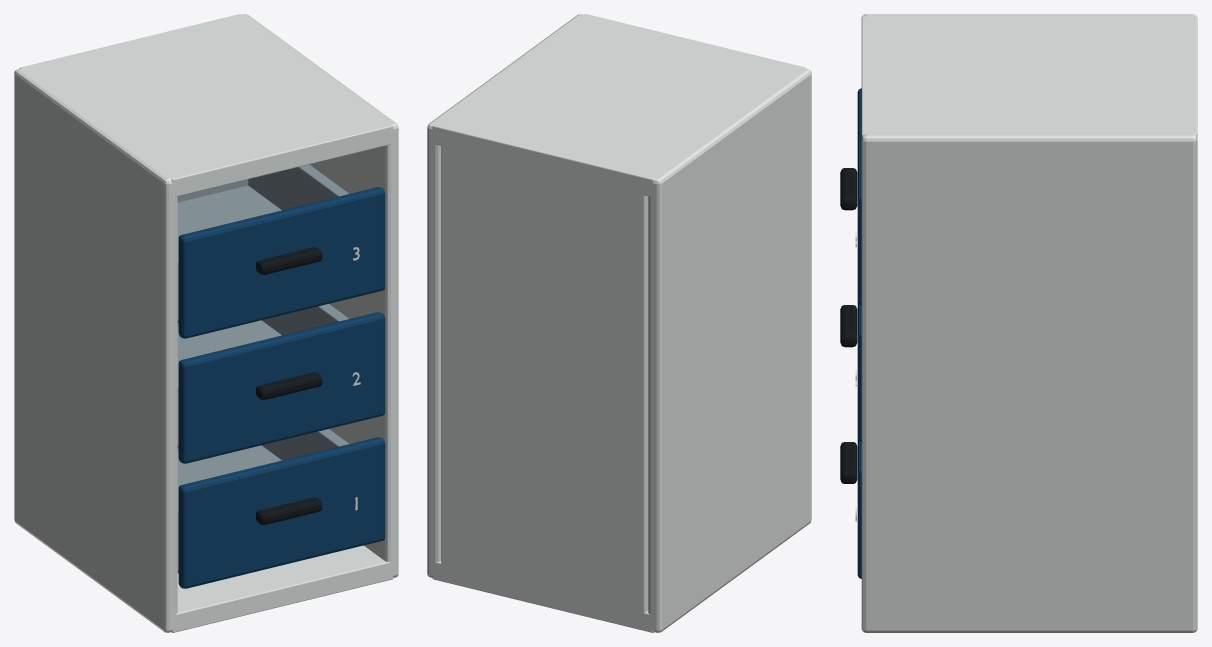
The model's file is edited.glb.
3 views of the same model, side by side, from view 1: azimuth 30°, elevation 25°; view 2: azimuth 150°, elevation 25°; view 3: azimuth 270°, elevation 25° (orthographic). The views are drawn at different scales.
Visible parts, largest first — view 1: BODY_Side.001, BODY_Rail, DRAWER_Front, DRAWER_Front.002, DRAWER_Front.001, BODY_Side, BODY_Rail.001, DRAWER_Bottom.002, DRAWER_Side.005, DRAWER_Bottom, DRAWER_Bottom.001, BODY_Back (+5 smaller); view 2: BODY_Back, BODY_Side.001, BODY_Rail, BODY_Side, BODY_Rail.001; view 3: BODY_Side, BODY_Rail, BODY_Back, BODY_Side.001, DRAWER_Front.002, HANDLE.001, HANDLE.002, HANDLE, DRAWER_Front, DRAWER_Front.001.
Boxes of the visible parts, <box> form: BODY_Side.001: <box>14,68,177,632</box>; BODY_Rail: <box>19,14,393,196</box>; DRAWER_Front: <box>178,437,385,588</box>; DRAWER_Front.002: <box>178,187,385,338</box>; DRAWER_Front.001: <box>178,312,385,463</box>; BODY_Side: <box>240,14,398,577</box>; BODY_Rail.001: <box>171,545,393,632</box>; DRAWER_Bottom.002: <box>177,185,281,323</box>; DRAWER_Side.005: <box>248,164,349,210</box>; DRAWER_Bottom: <box>177,445,281,573</box>; DRAWER_Bottom.001: <box>177,320,281,448</box>; BODY_Back: <box>30,16,237,70</box>; BODY_Back: <box>441,123,650,630</box>; BODY_Side.001: <box>648,68,811,632</box>; BODY_Rail: <box>432,14,806,196</box>; BODY_Side: <box>427,14,585,577</box>; BODY_Rail.001: <box>432,561,654,632</box>; BODY_Side: <box>861,132,1197,632</box>; BODY_Rail: <box>861,16,1197,137</box>; BODY_Back: <box>1182,21,1197,128</box>; BODY_Side.001: <box>863,14,1196,17</box>; DRAWER_Front.002: <box>857,88,861,304</box>; HANDLE.001: <box>840,305,857,347</box>; HANDLE.002: <box>840,168,857,210</box>; HANDLE: <box>840,442,857,483</box>; DRAWER_Front: <box>857,439,861,578</box>; DRAWER_Front.001: <box>857,302,861,441</box>.
Size of the model in its own units: 0.53 by 0.98 by 0.638.
